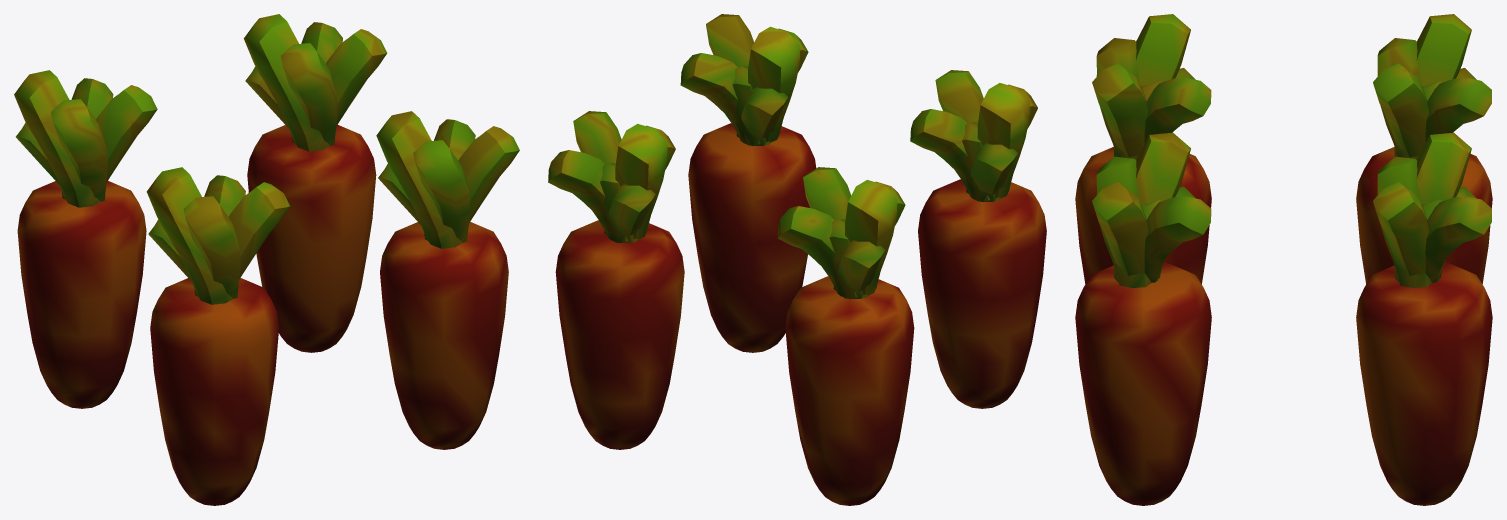
The model's file is Farm_Crop_Carrot_Dead.glb.
3 views of the same model, side by side, from view 1: azimuth 30°, elevation 25°; view 2: azimuth 150°, elevation 25°; view 3: azimuth 270°, elevation 25° (orthographic). The views are drawn at different scales.
Visible parts, largest first — view 1: Farm_Crop_Carrot_Dead; view 2: Farm_Crop_Carrot_Dead; view 3: Farm_Crop_Carrot_Dead.
Part boxes in pixels (<box>): Farm_Crop_Carrot_Dead: <box>14,14,519,505</box>; Farm_Crop_Carrot_Dead: <box>548,14,1046,505</box>; Farm_Crop_Carrot_Dead: <box>1075,14,1492,505</box>.
Bounding box in the file's own units: 1.5 × 1.37 × 1.49.
Materials: 1 (1 with a texture image).
